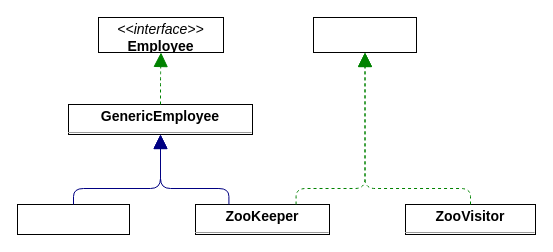
Some shapes in this 553 by 252 pixel diagram are drawn without their labels. Each missing label, with the centre of its shape:
"<<interface>> Feeder" goes at (364,34).
"Director" goes at (73,219).
